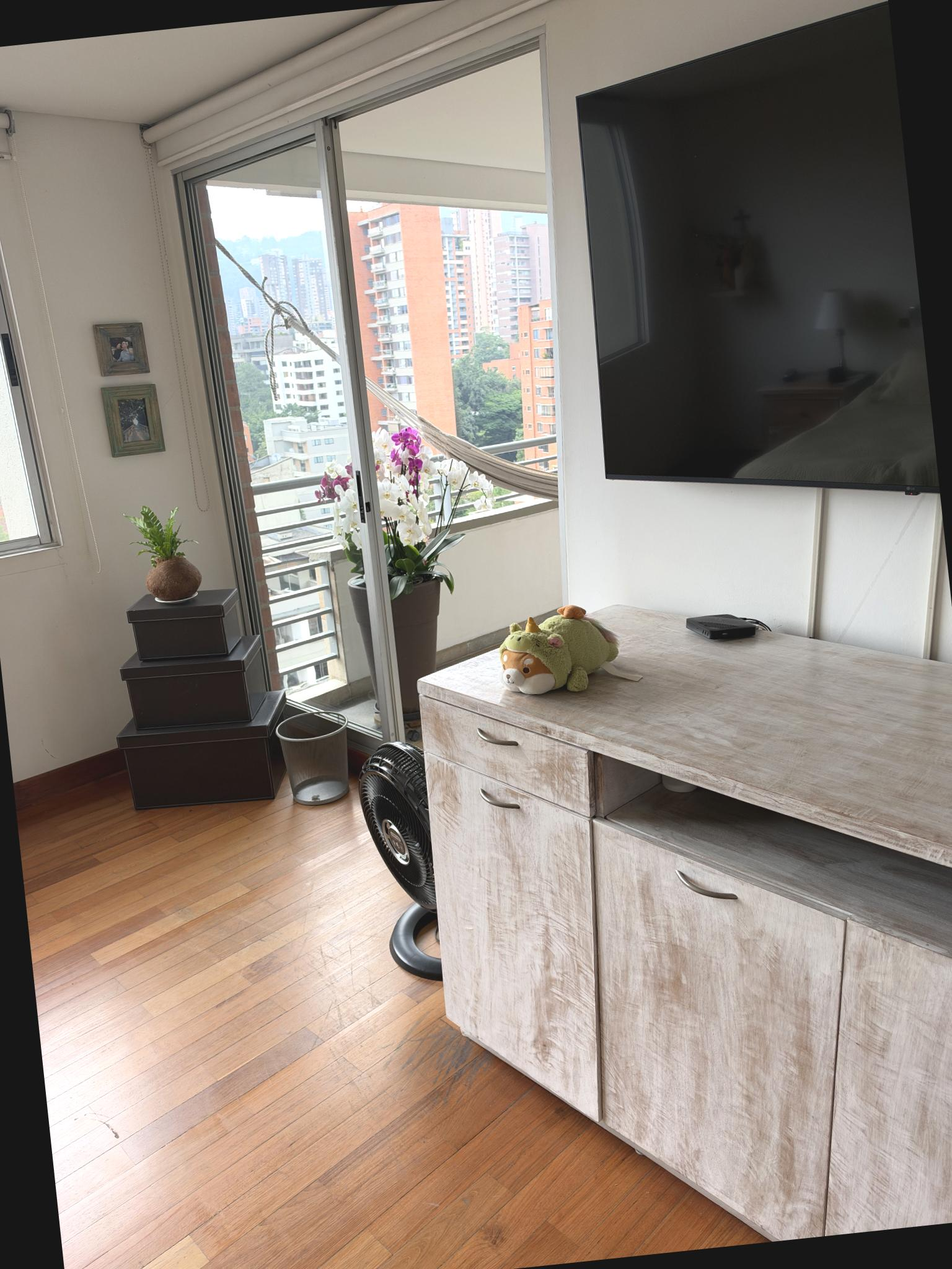peluche_martin: (490, 599, 624, 700)
